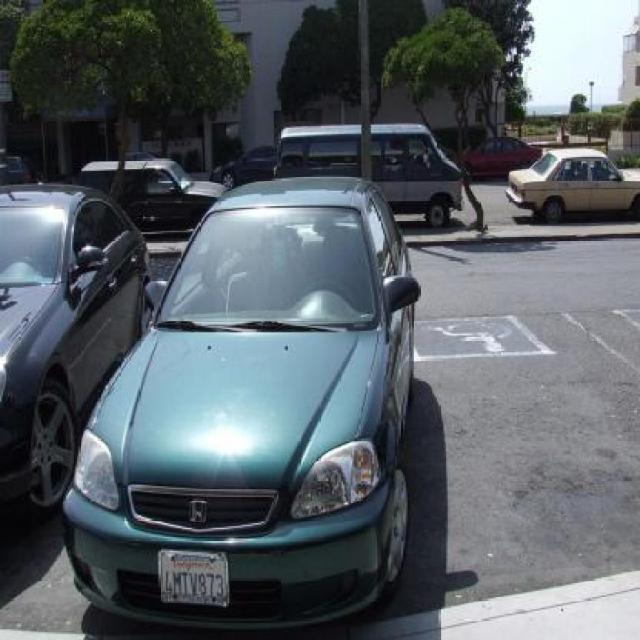License-Plates: (157, 545, 229, 608)
